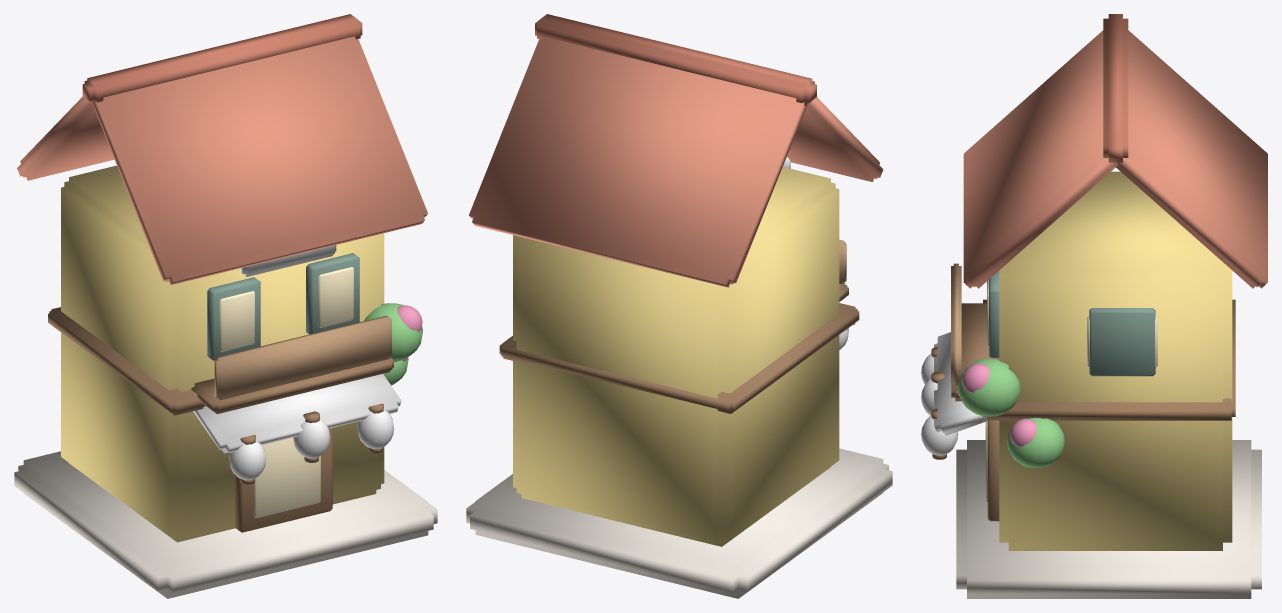
The model's file is lvl2_hoian.glb.
The picture shows the model from 3 angles, left to right: view 1: azimuth 30°, elevation 25°; view 2: azimuth 150°, elevation 25°; view 3: azimuth 270°, elevation 25°; orthographic projection.
Visible parts, largest first — view 1: lvl2_hoian; view 2: lvl2_hoian; view 3: lvl2_hoian.
Boxes of the visible parts, x1=… form: lvl2_hoian: x1=14, y1=14, x2=437, y2=598; lvl2_hoian: x1=466, y1=14, x2=892, y2=598; lvl2_hoian: x1=921, y1=14, x2=1267, y2=598.
Bounding box in the file's own units: 0.484 × 0.761 × 0.5218.
